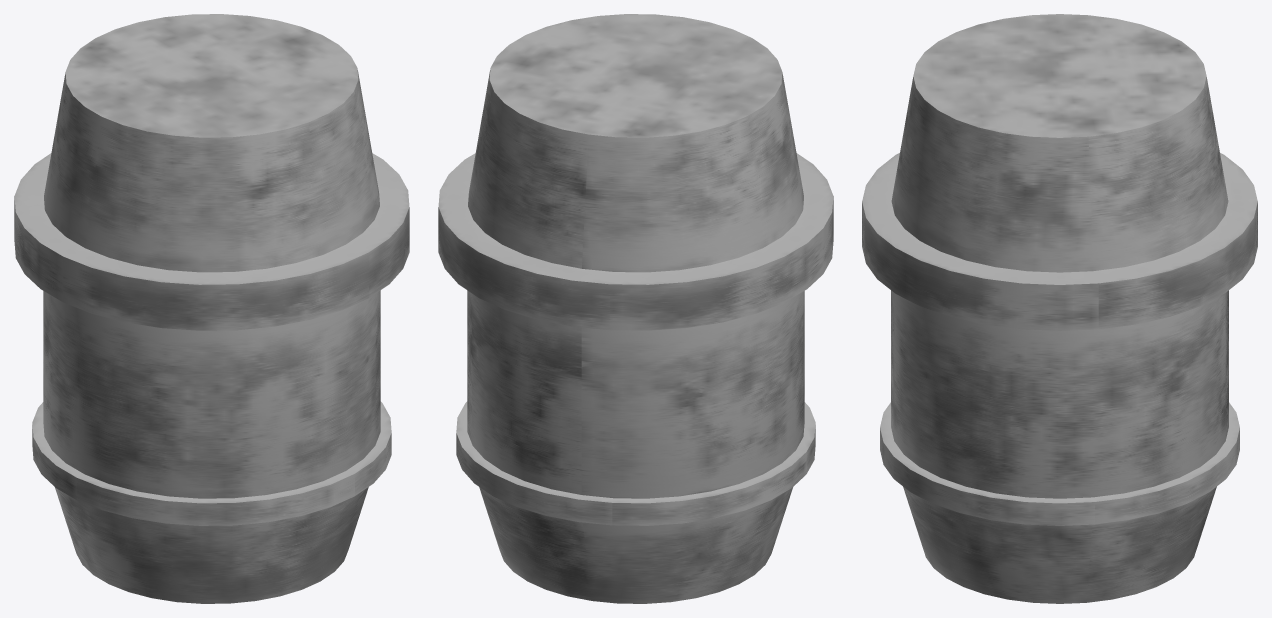
The model's file is ufo_arm2_st.fbx.
3 views of the same model, side by side, from view 1: azimuth 30°, elevation 25°; view 2: azimuth 150°, elevation 25°; view 3: azimuth 270°, elevation 25° (orthographic).
Visible parts, largest first — view 1: st.002; view 2: st.002; view 3: st.002.
Boxes of the visible parts, x1,y1,x2,y2 form: st.002: (14, 14, 409, 603); st.002: (438, 14, 833, 603); st.002: (862, 14, 1257, 603).
Bounding box in the file's own units: 88.55 × 116 × 88.55.
